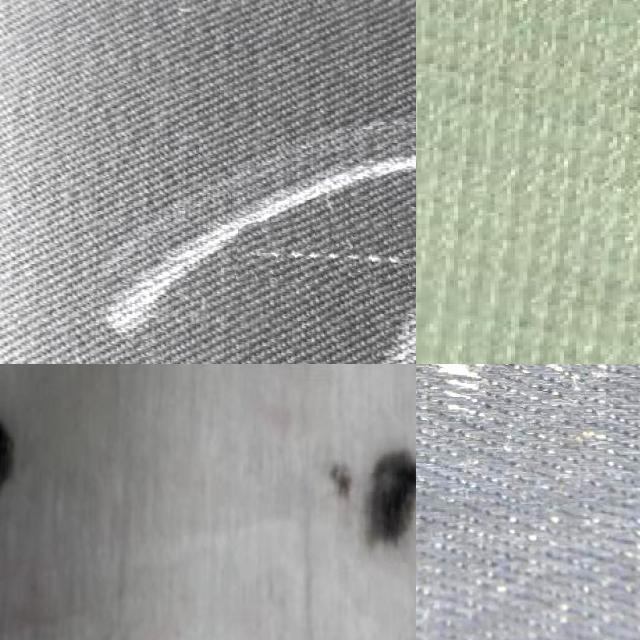Thread_other: (309, 418, 416, 562), (0, 392, 49, 518)
stains: (416, 364, 593, 502), (236, 222, 416, 289)
